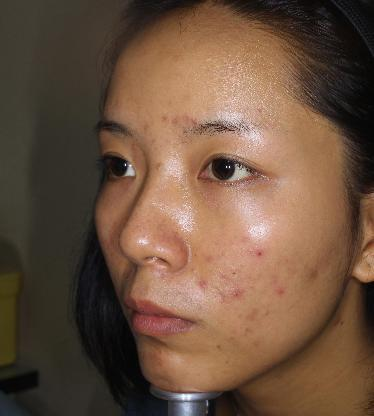Blackheads: (250, 246, 272, 262)
acne scar: (274, 283, 290, 300)
